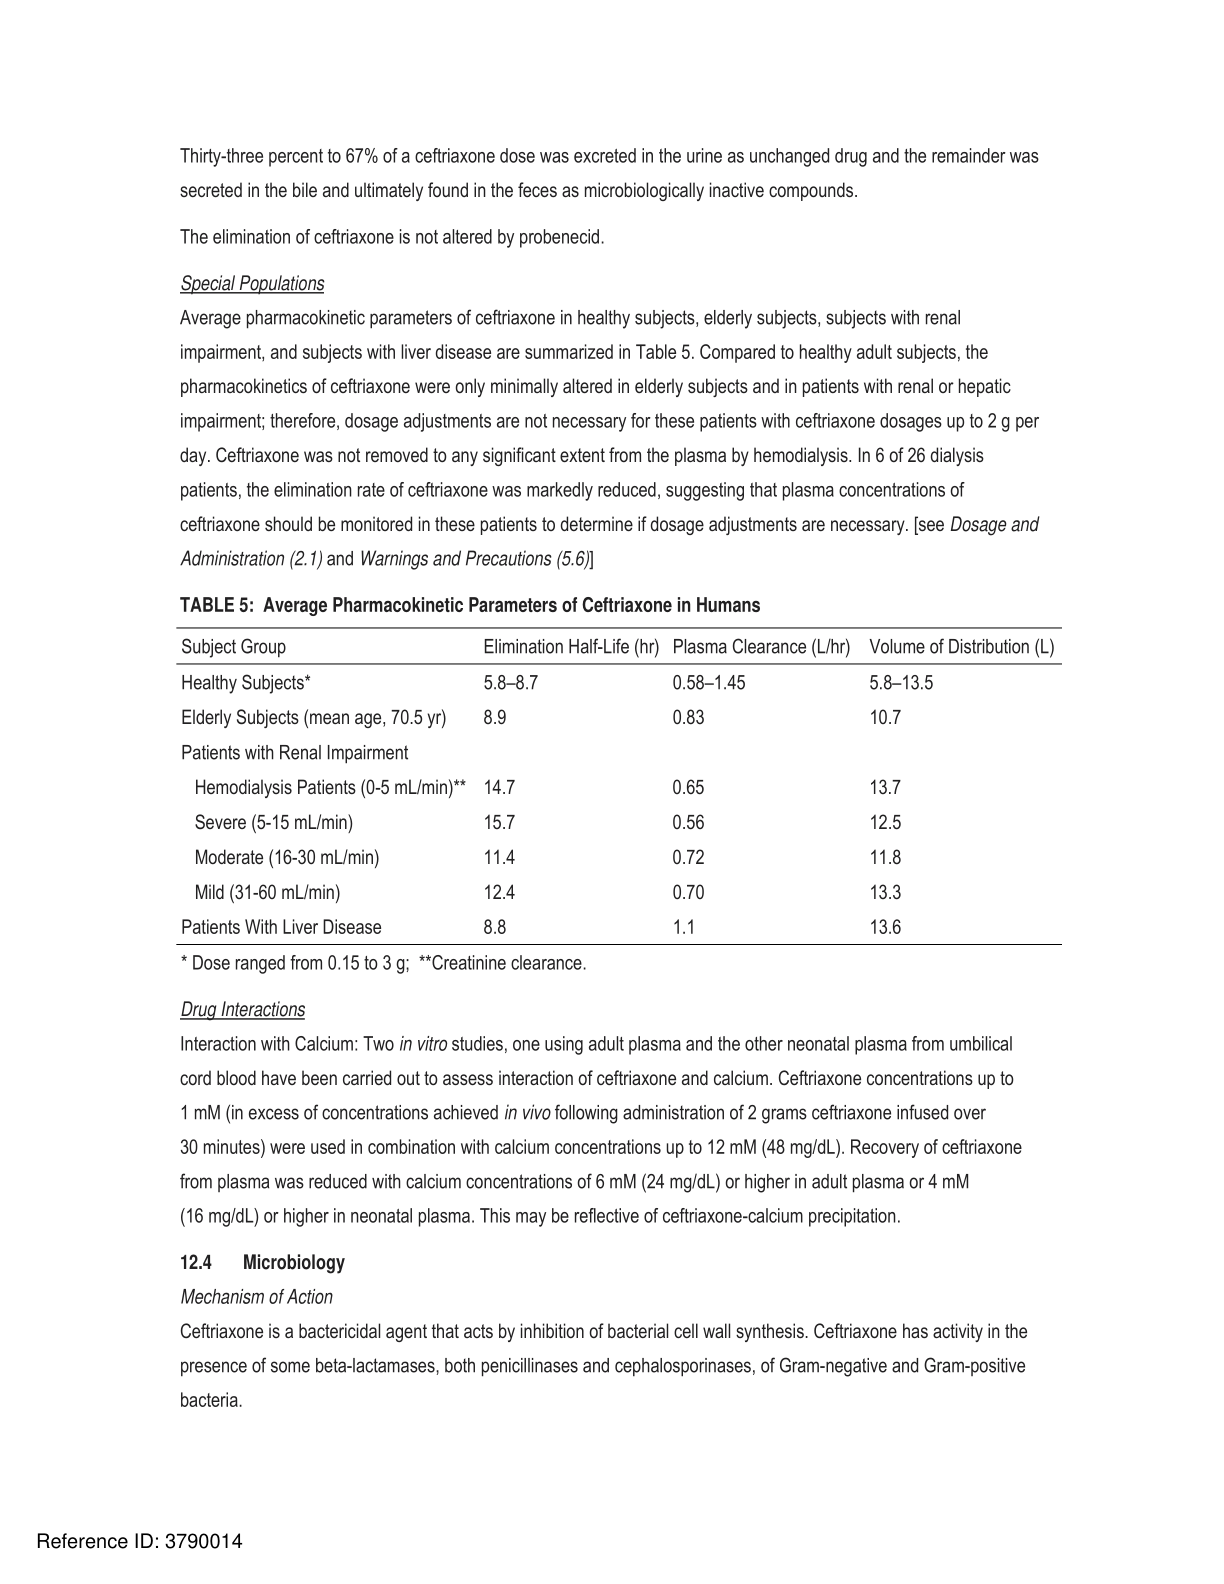partial_lined: (174, 626, 1063, 948)
